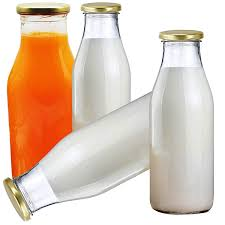milk: (5, 99, 168, 196), (146, 26, 222, 209), (77, 4, 134, 157)
